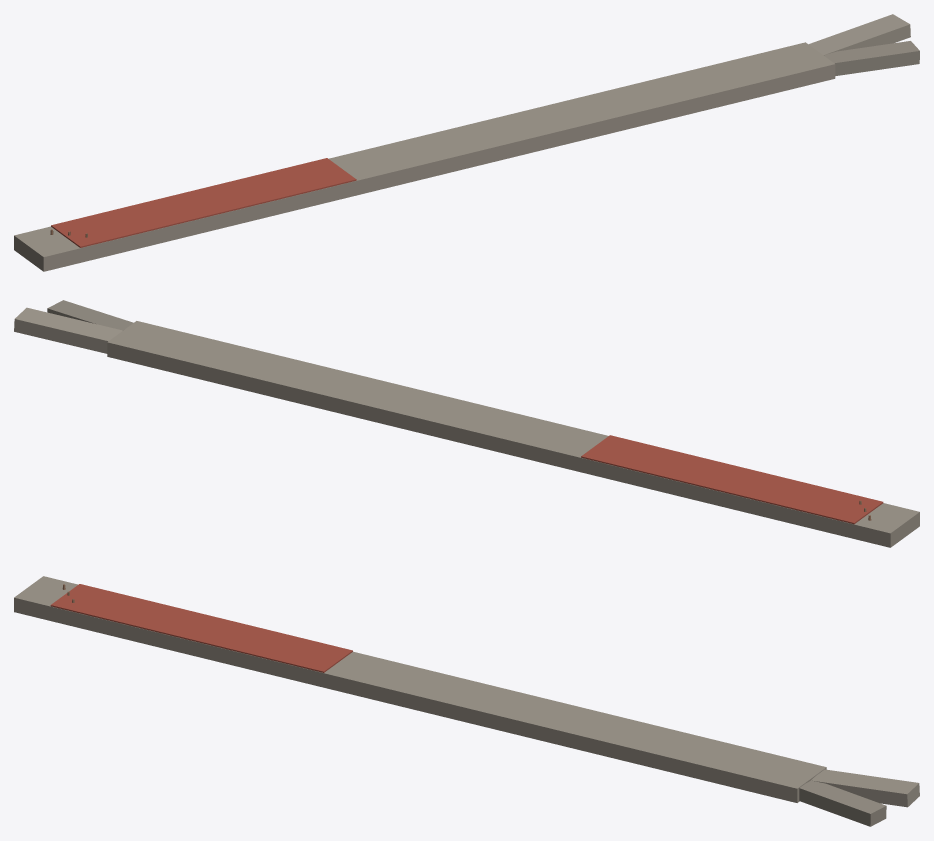
File: storm_debris_plank_a.glb
The picture shows the model from 3 angles, top to bottom: view 1: azimuth 30°, elevation 25°; view 2: azimuth 150°, elevation 25°; view 3: azimuth 330°, elevation 25°; orthographic projection.
Visible parts, largest first — view 1: body; view 2: body; view 3: body.
Part boxes in pixels (left/top/right/bottom): body: left=14, top=14, right=919, bottom=271; body: left=14, top=300, right=919, bottom=547; body: left=14, top=576, right=919, bottom=826.
Size of the model in its own units: 2.4 by 0.052 by 0.1796.
